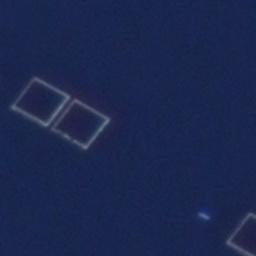square_solid: (47, 93, 114, 157), (7, 73, 75, 133), (220, 208, 255, 256)
